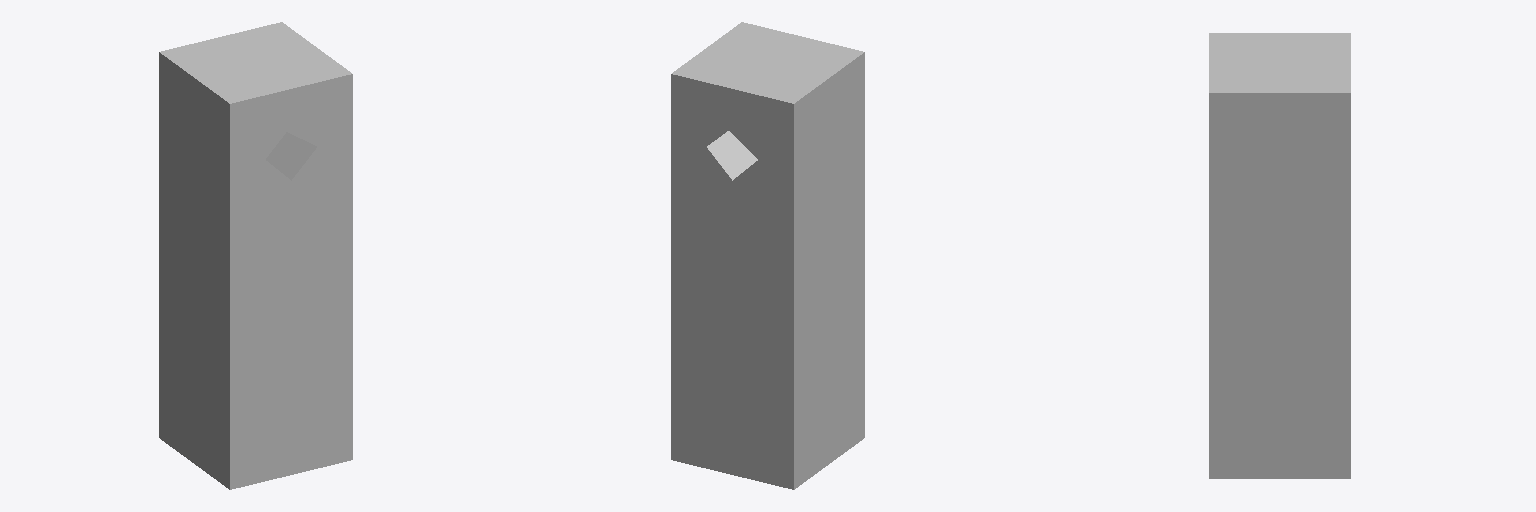
File: emitter.obj
The picture shows the model from 3 angles: view 1: azimuth 30°, elevation 25°; view 2: azimuth 150°, elevation 25°; view 3: azimuth 270°, elevation 25°; orthographic projection.
Parts seen in each view (by area): view 1: Emitter_Cube; view 2: Emitter_Cube; view 3: Emitter_Cube.
Part boxes in pixels (x1,y1,x2,y2): Emitter_Cube: (159, 22, 352, 489); Emitter_Cube: (671, 22, 864, 489); Emitter_Cube: (1209, 33, 1350, 478).
Size of the model in its own units: 1 by 3 by 1.